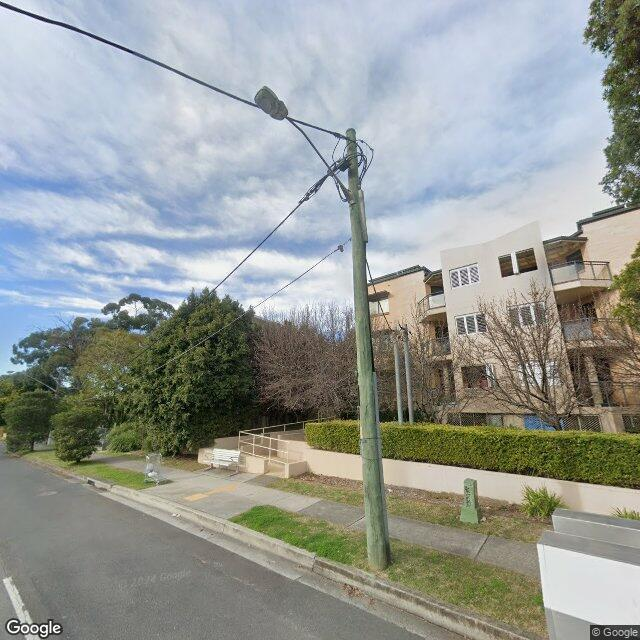streetlight: (254, 86, 356, 205)
timber-pole: (346, 127, 392, 572)
